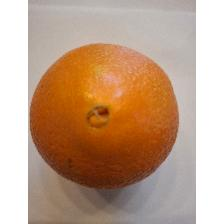Orange: (29, 40, 181, 192)
